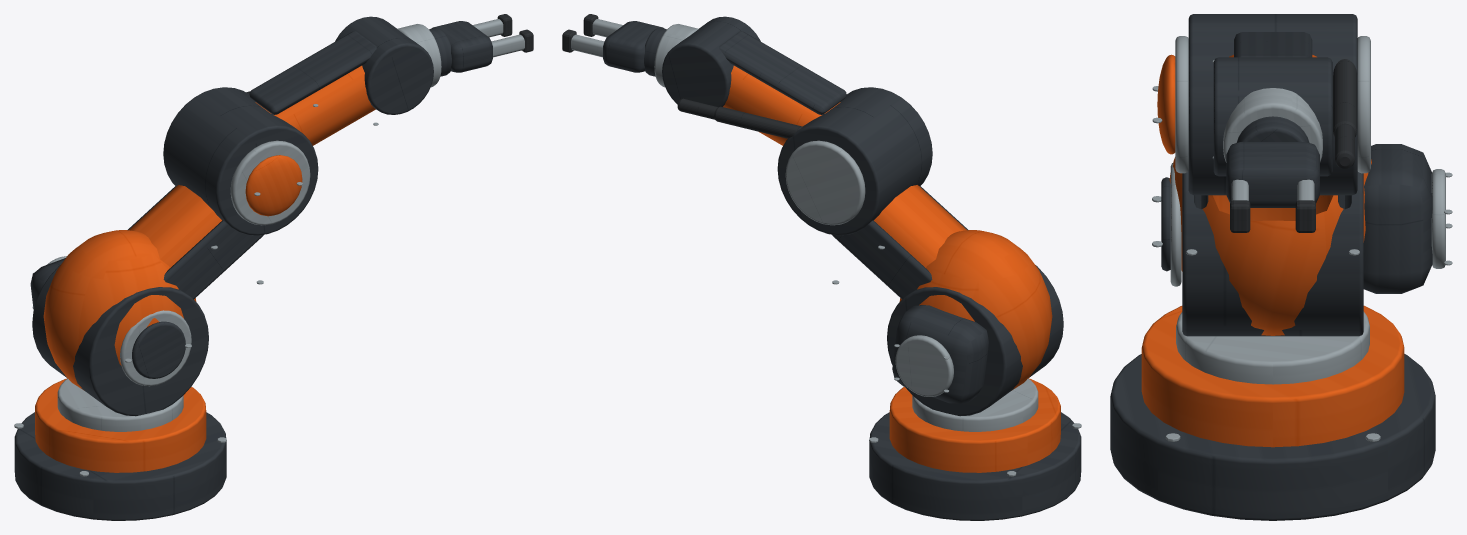
The model's file is ROBOT-001.fbx.
3 views of the same model, side by side, from view 1: azimuth 30°, elevation 25°; view 2: azimuth 150°, elevation 25°; view 3: azimuth 270°, elevation 25° (orthographic). The views are drawn at different scales.
Parts seen in each view (by area): view 1: Base_Foundation, Elbow_Joint, Shoulder_Housing, Shoulder_Axis, Rotary_Base, Wrist_Roll, Forearm_Top_Cover, Upper_Arm_Structure, Forearm_Structure, Upper_Arm_SidePlate_L, Turntable_Cap, Elbow_Cover (+5 smaller); view 2: Base_Foundation, Elbow_Joint, Shoulder_Housing, Rotary_Base, Shoulder_Axis, Elbow_Ring_R, Wrist_Roll, Shoulder_Motor_Cover, Forearm_Top_Cover, Upper_Arm_Structure, Upper_Arm_SidePlate_R, Turntable_Cap (+5 smaller); view 3: Base_Foundation, Rotary_Base, Shoulder_Axis, Elbow_Joint, Shoulder_Housing, Shoulder_Motor_Cover, Turntable_Cap, Wrist_Roll, Gripper_Body, Wrist_Flange, Forearm_Top_Cover, Elbow_Ring_L (+11 smaller).
Boxes of the visible parts, <box> form: Base_Foundation: <box>14,412,226,520</box>; Elbow_Joint: <box>163,87,318,235</box>; Shoulder_Housing: <box>43,230,196,389</box>; Shoulder_Axis: <box>32,265,208,416</box>; Rotary_Base: <box>35,378,206,472</box>; Wrist_Roll: <box>335,16,433,114</box>; Forearm_Top_Cover: <box>249,31,376,114</box>; Upper_Arm_Structure: <box>129,185,221,267</box>; Forearm_Structure: <box>255,65,375,145</box>; Upper_Arm_SidePlate_L: <box>163,220,263,299</box>; Turntable_Cap: <box>57,378,183,431</box>; Elbow_Cover: <box>245,155,302,216</box>; Base_Foundation: <box>869,412,1081,520</box>; Elbow_Joint: <box>777,87,932,235</box>; Shoulder_Housing: <box>899,230,1052,389</box>; Rotary_Base: <box>889,378,1060,472</box>; Shoulder_Axis: <box>887,265,1063,416</box>; Elbow_Ring_R: <box>785,140,865,225</box>; Wrist_Roll: <box>662,16,760,106</box>; Shoulder_Motor_Cover: <box>892,305,988,403</box>; Forearm_Top_Cover: <box>719,31,846,114</box>; Upper_Arm_Structure: <box>874,185,966,267</box>; Upper_Arm_SidePlate_R: <box>832,220,932,299</box>; Turntable_Cap: <box>912,378,1038,431</box>; Base_Foundation: <box>1110,354,1435,520</box>; Rotary_Base: <box>1141,305,1404,447</box>; Shoulder_Axis: <box>1182,171,1363,336</box>; Elbow_Joint: <box>1188,14,1357,195</box>; Shoulder_Housing: <box>1169,157,1371,335</box>; Shoulder_Motor_Cover: <box>1363,144,1432,293</box>; Turntable_Cap: <box>1176,311,1369,384</box>; Wrist_Roll: <box>1213,57,1332,176</box>; Gripper_Body: <box>1226,142,1319,207</box>; Wrist_Flange: <box>1223,88,1322,162</box>; Forearm_Top_Cover: <box>1234,32,1312,57</box>; Elbow_Ring_L: <box>1175,36,1188,173</box>.
Bounding box in the file's own units: 2.78 × 2.07 × 1.09.
